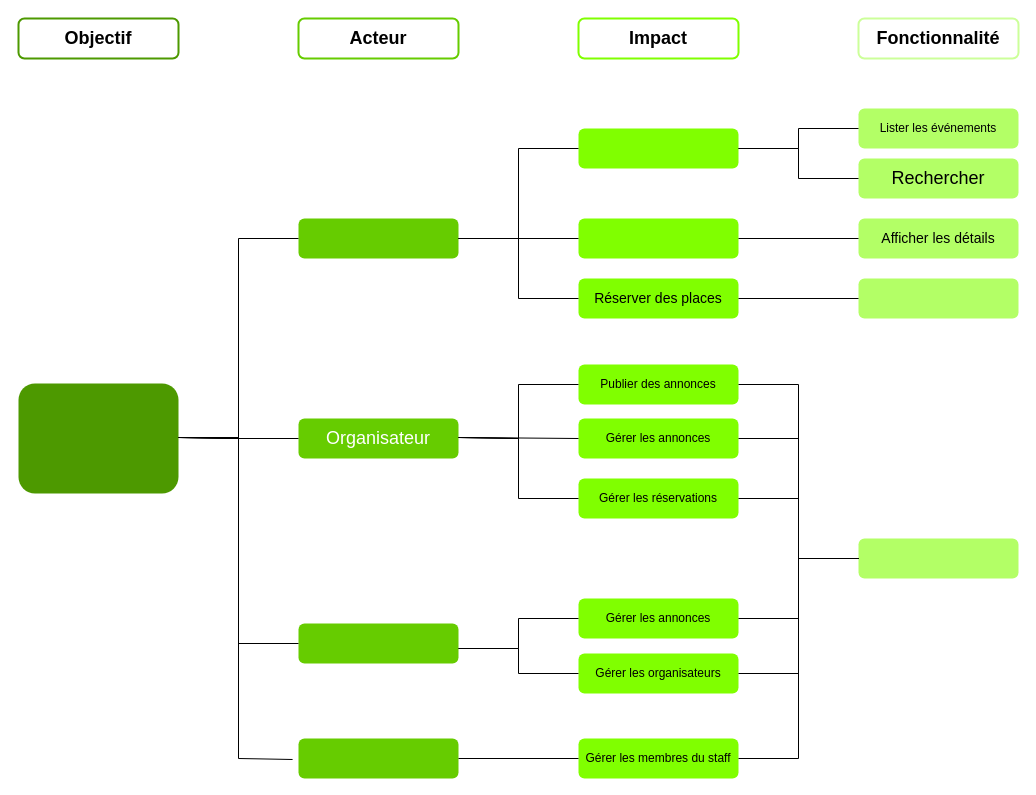
The diagram is 1036 pixels wide and 795 high, and some of its shapes have lost their labels. Here are the shapes that lost their labels. From the top down, the centre of each, then its label:
the point at 658,148: Trouver des événements
the point at 378,238: Utilisateur
the point at 658,238: S'informer
the point at 938,298: Réserver en ligne
the point at 98,438: Devenir la plateforme de référence dans la promotion d'événements
the point at 938,558: Back-Office
the point at 378,643: Staff
the point at 378,758: Administrateurs
